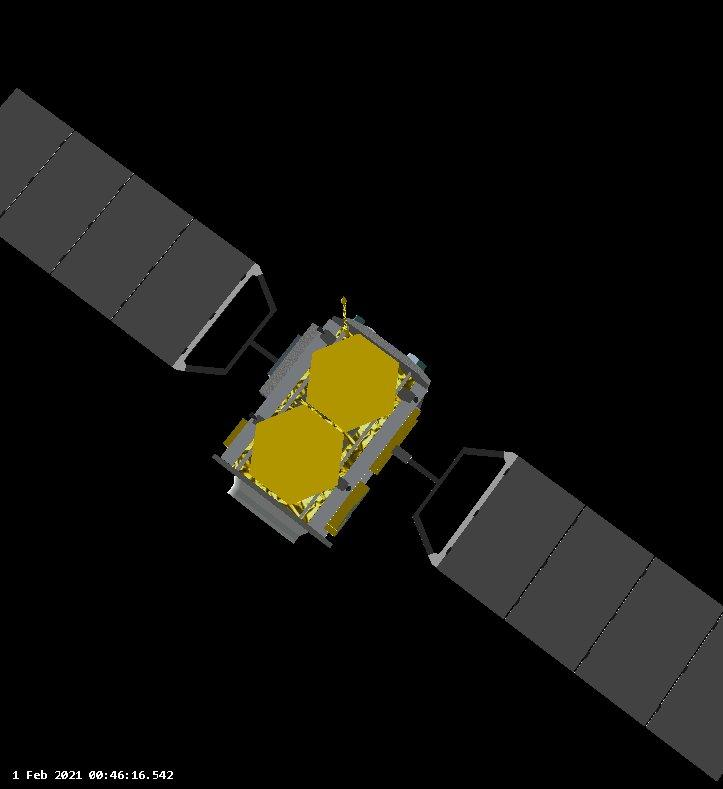body: (212, 316, 434, 552)
solar: (432, 450, 723, 787), (0, 84, 260, 370)
thruster: (224, 474, 307, 547)
